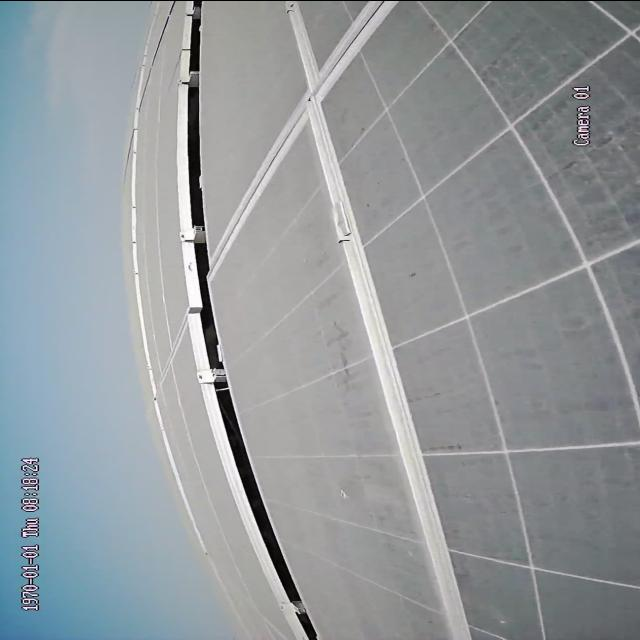interior panel: (214, 0, 475, 640)
outher panel: (180, 2, 324, 640)
